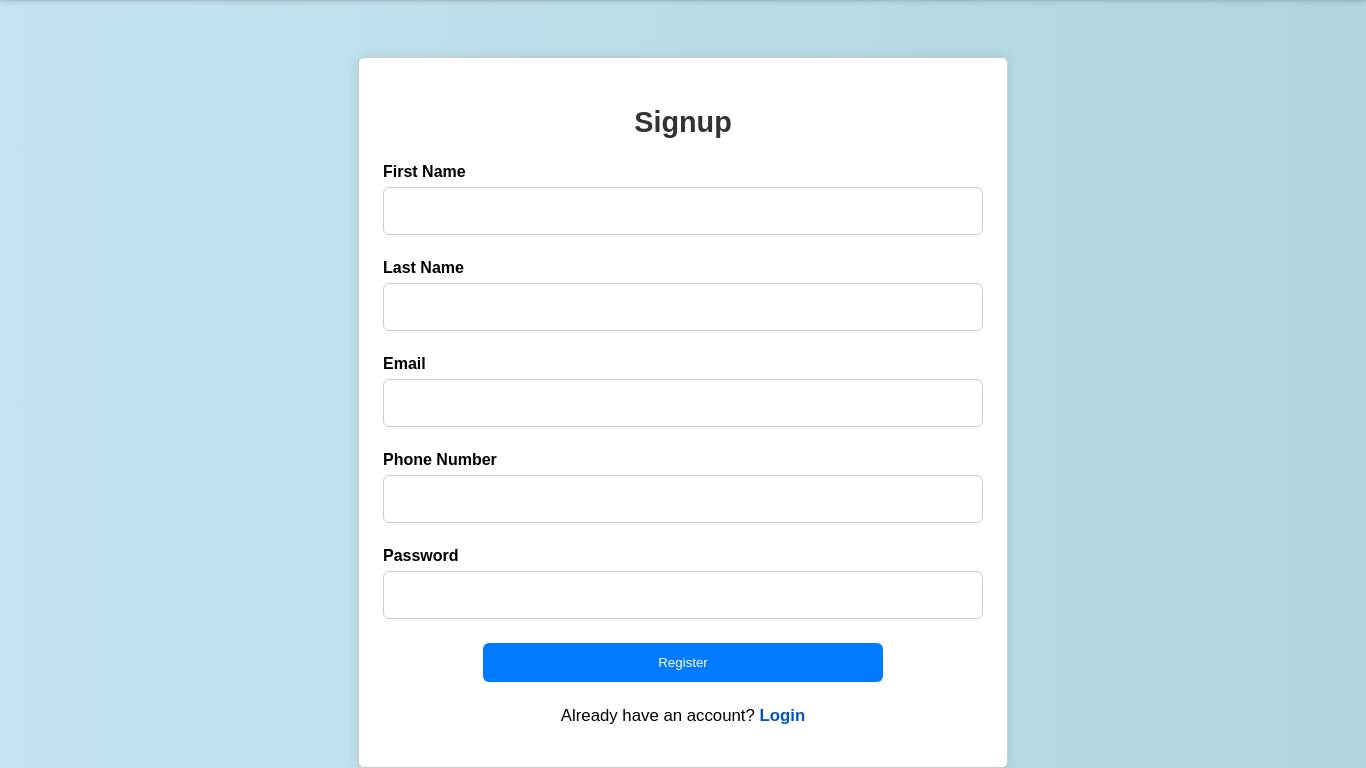
Test: Signup Component › handles form submission with validation errors
(page scrolled)
Click the button "Register": (683, 662) left=483, top=643, right=883, bottom=682
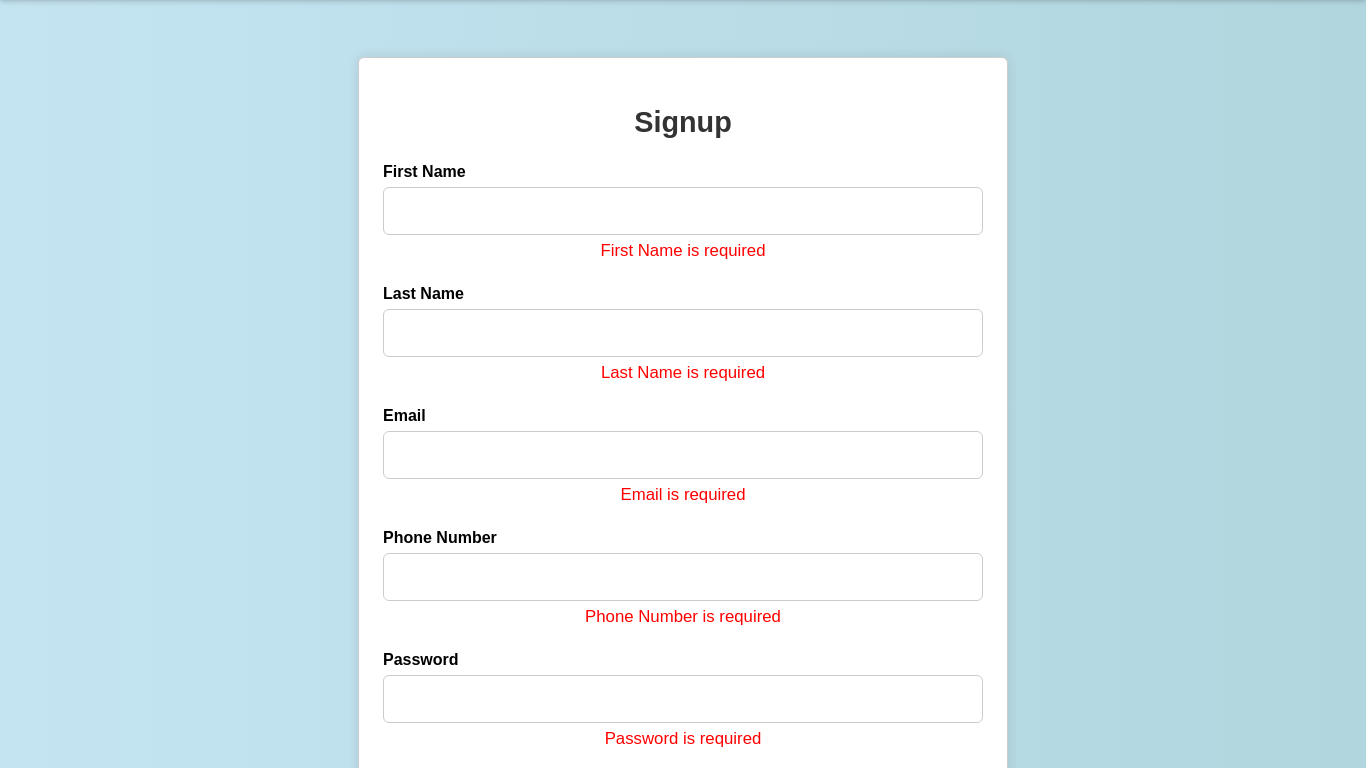
Check: the text "First Name is required" is shown, box left=600, top=241, right=766, bottom=260
Check: the text "Last Name is required" is shown, box left=601, top=363, right=765, bottom=382
Check: the text "Email is required" is shown, box left=620, top=485, right=746, bottom=504
